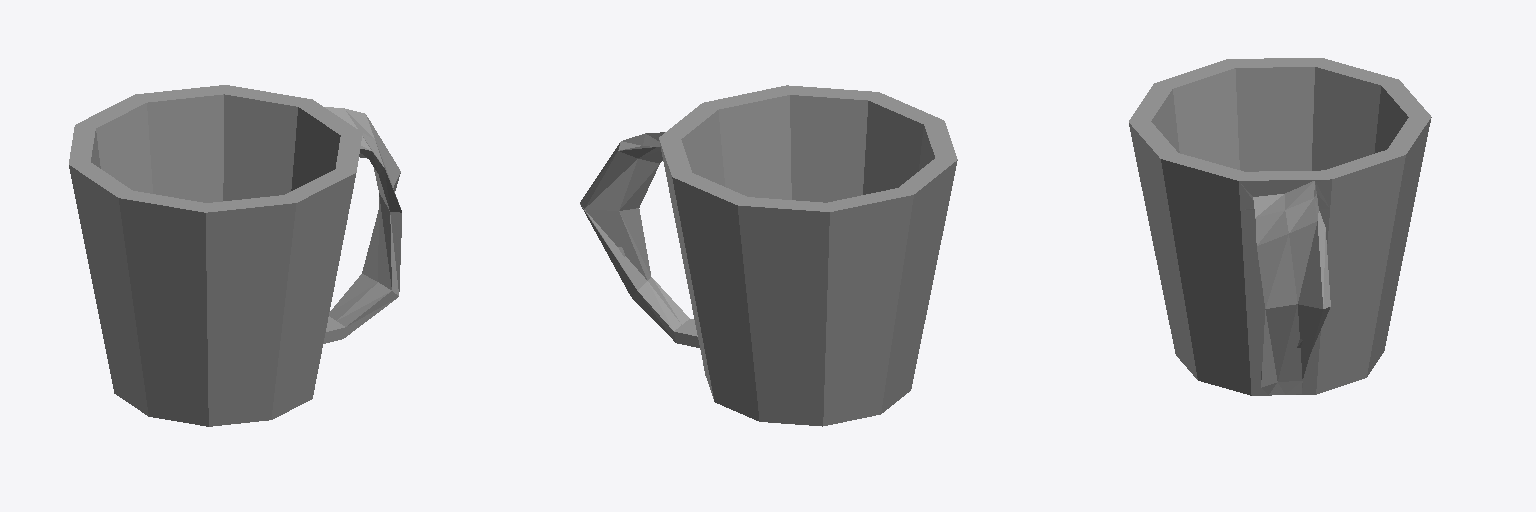
The model's file is Cup_1.obj.
The picture shows the model from 3 angles: view 1: azimuth 30°, elevation 25°; view 2: azimuth 150°, elevation 25°; view 3: azimuth 270°, elevation 25°; orthographic projection.
Visible parts, largest first — view 1: Cup_1_Cylinder.005; view 2: Cup_1_Cylinder.005; view 3: Cup_1_Cylinder.005.
Part boxes in pixels (x1,y1,x2,y2): Cup_1_Cylinder.005: (69,85,401,426); Cup_1_Cylinder.005: (580,85,957,426); Cup_1_Cylinder.005: (1129,58,1431,395).
Size of the model in its own units: 0.1193 by 0.08 by 0.0939.